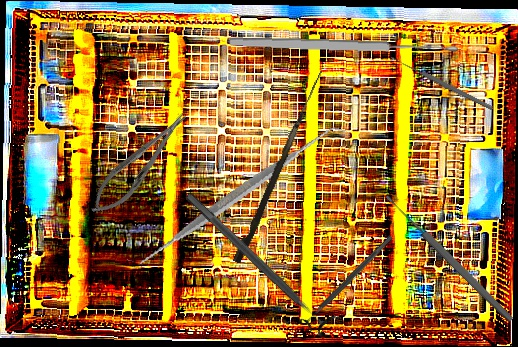Fixation Ring: (177, 183, 343, 342), (296, 230, 399, 335)
Hook Surgical: (232, 66, 323, 266)
Needle Holder: (82, 104, 197, 224)
Spatula Surgical: (126, 84, 348, 307)
Surgical Spoon: (382, 191, 516, 325), (389, 54, 495, 112), (228, 35, 459, 56)
